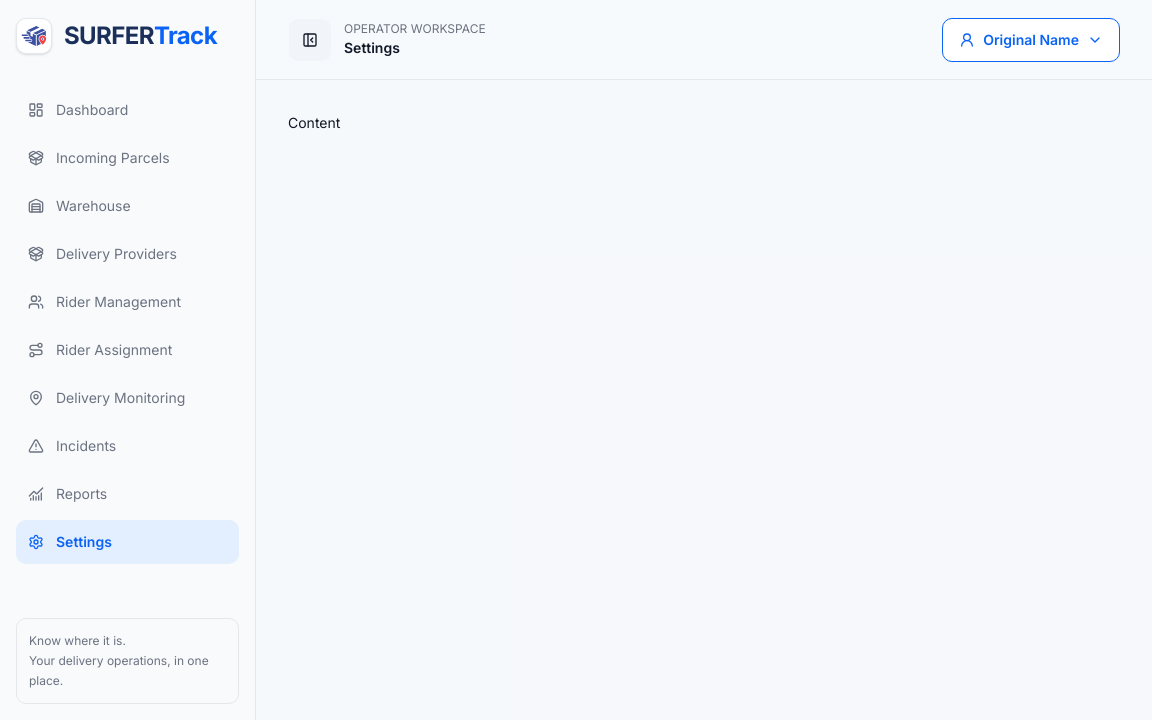
Test: renders all navigation destinations and highlights the active route
The image size is (1152, 720).
Click the button named "Collapse sidebar" at (310, 40), box [288, 18, 332, 62]
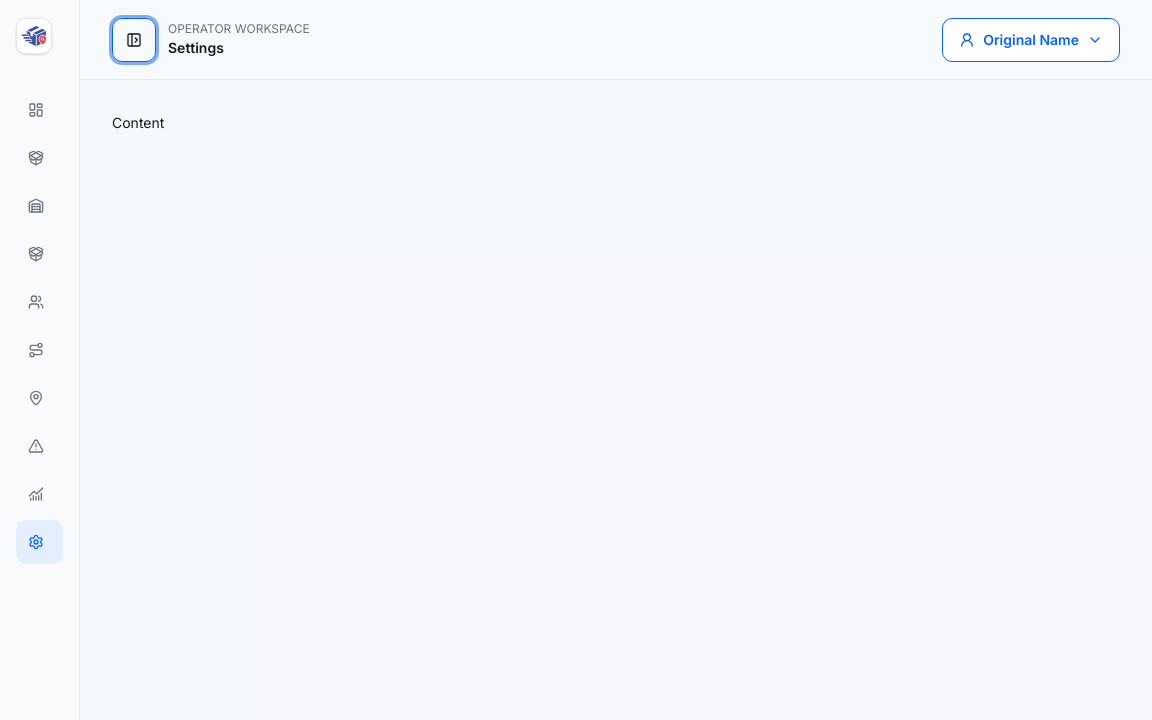
Expected: the button named "Expand sidebar" is collapsed, [112, 18, 156, 62]
